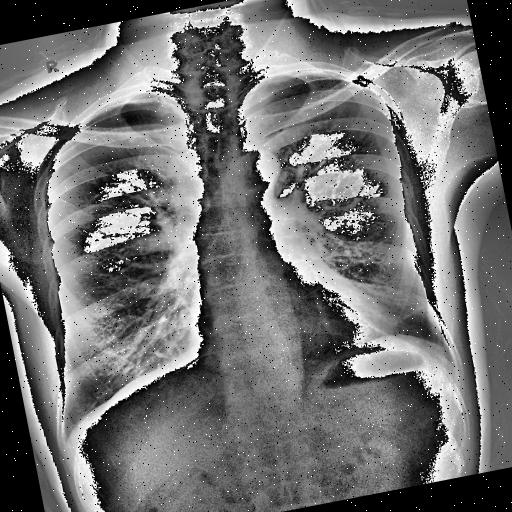0- Aortic enlargement: (230, 144, 282, 196)
11- Pleural thickening: (84, 84, 173, 116), (267, 57, 350, 90)
13- Pulmonary fibrosis: (400, 304, 430, 319)
3- Cardiomegaly: (181, 257, 397, 375), (186, 274, 402, 385)
